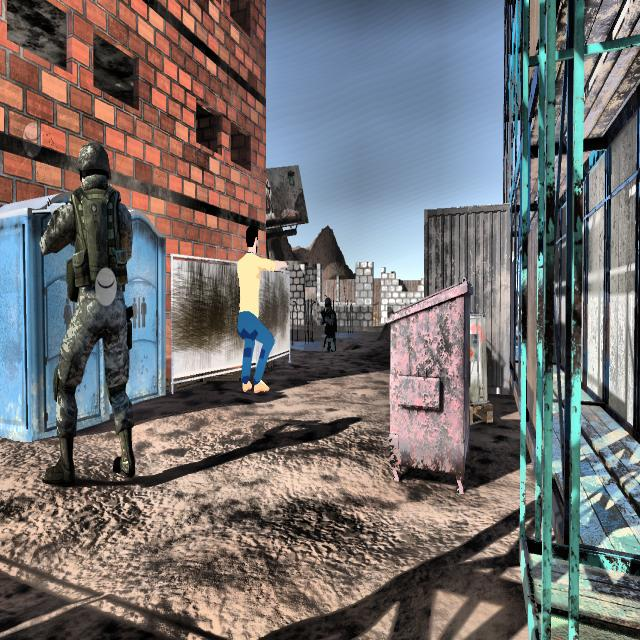bad: (26, 135, 150, 504), (316, 282, 342, 366)
good: (226, 213, 292, 422)
